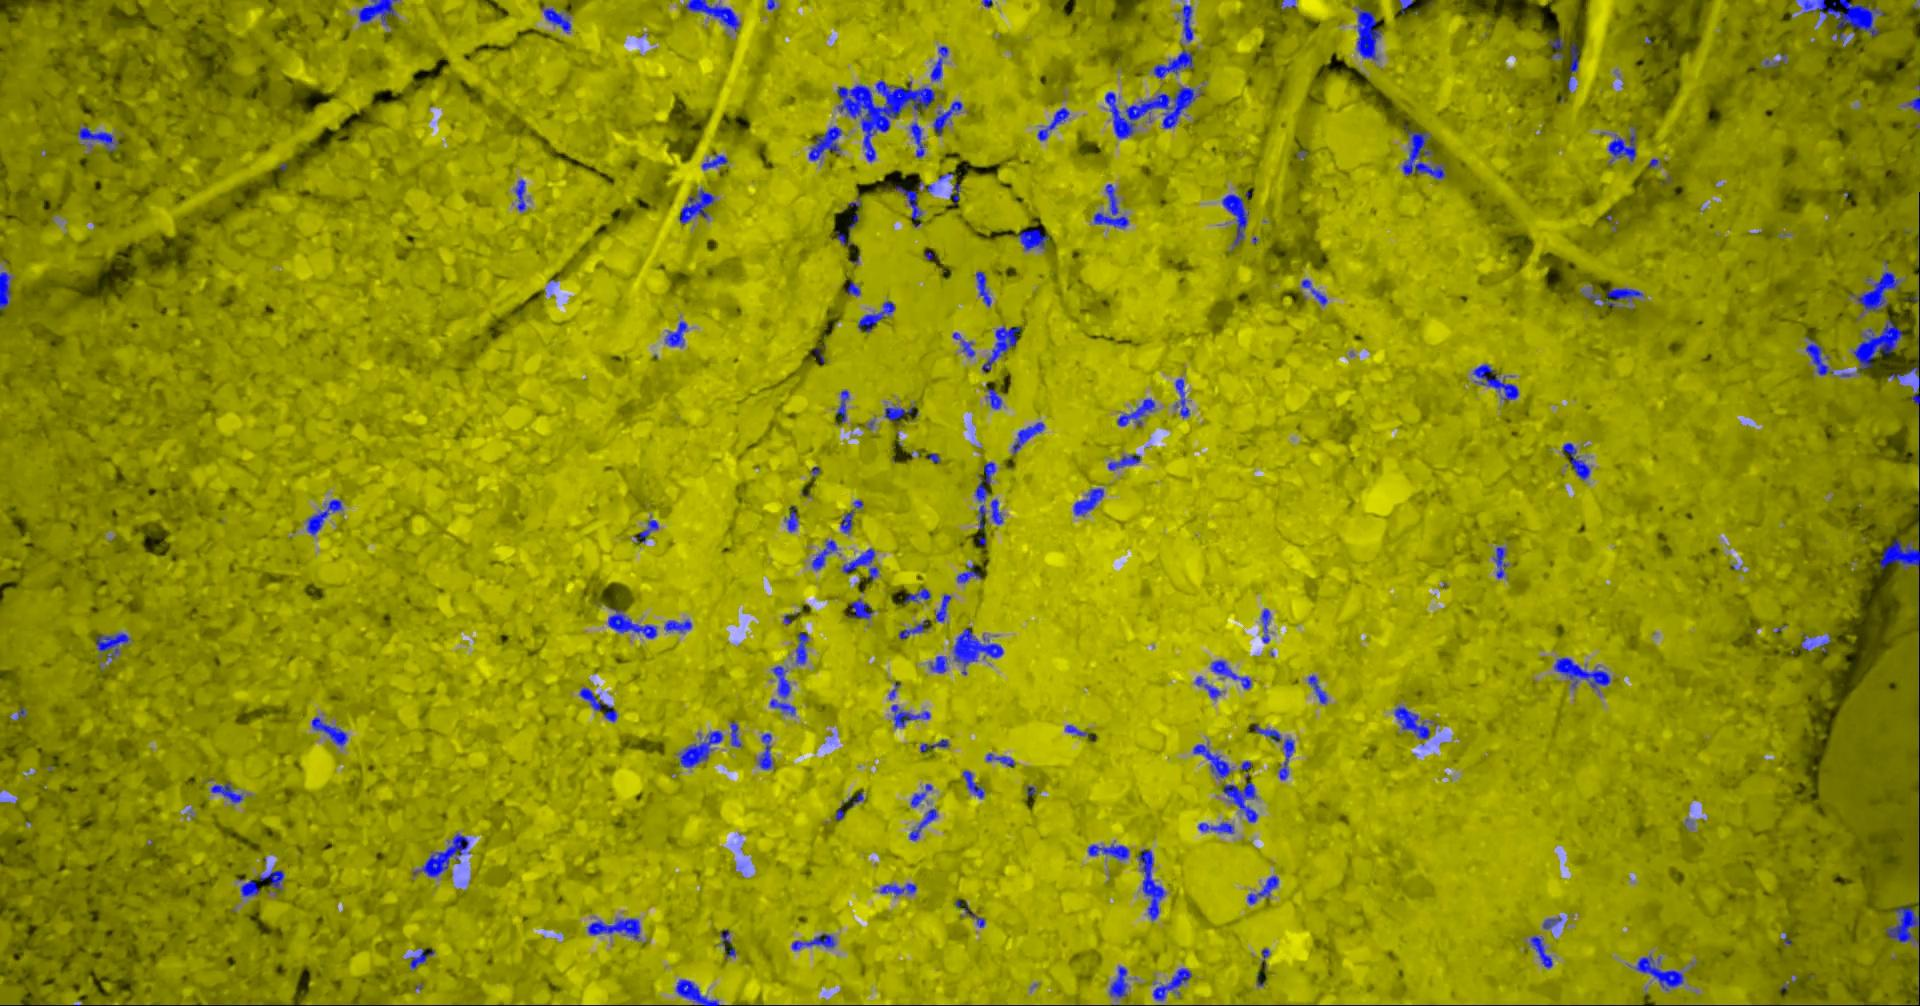ant: (1854, 318, 1903, 372), (414, 833, 471, 876), (954, 627, 1004, 674), (1404, 123, 1448, 178), (1255, 724, 1295, 779), (1556, 657, 1611, 694), (1139, 848, 1166, 920), (1879, 523, 1920, 569), (983, 326, 1021, 372), (1637, 954, 1685, 989), (686, 0, 742, 30), (1858, 271, 1900, 311), (1474, 363, 1520, 400), (1396, 705, 1436, 746), (681, 730, 724, 767), (1095, 183, 1130, 227), (610, 607, 658, 638), (1224, 781, 1258, 822), (1356, 6, 1383, 58), (1194, 744, 1236, 777), (1887, 901, 1920, 942), (977, 461, 997, 528), (1223, 194, 1250, 245), (580, 687, 618, 721), (771, 666, 797, 714), (1890, 365, 1920, 406), (681, 188, 716, 224), (1154, 967, 1192, 1000), (309, 499, 344, 533), (1211, 661, 1253, 688), (858, 301, 897, 332), (1154, 50, 1195, 77), (810, 126, 843, 160), (844, 547, 880, 579), (677, 979, 721, 1005), (79, 124, 119, 151), (897, 185, 923, 226), (312, 716, 349, 746), (1589, 287, 1644, 306), (1117, 398, 1156, 426), (589, 917, 641, 937), (1039, 107, 1070, 140), (1609, 126, 1637, 163), (1807, 337, 1834, 375), (1015, 422, 1046, 453), (935, 100, 964, 135), (97, 633, 131, 662), (1564, 442, 1591, 479), (359, 0, 399, 24), (891, 704, 931, 727), (1250, 875, 1280, 904), (910, 808, 938, 840), (1076, 486, 1105, 516), (956, 901, 987, 927), (1017, 227, 1051, 250), (1531, 935, 1554, 968), (813, 540, 838, 569), (792, 934, 837, 950), (212, 781, 244, 803), (1303, 279, 1330, 305), (543, 8, 571, 32), (1090, 843, 1130, 859), (964, 770, 985, 798), (1176, 379, 1191, 418), (932, 44, 949, 80), (977, 271, 993, 306), (954, 332, 977, 357), (1309, 674, 1330, 702), (1111, 965, 1129, 997), (900, 619, 930, 638), (636, 520, 660, 542), (1197, 676, 1222, 699), (886, 406, 919, 423), (910, 122, 926, 158), (759, 733, 775, 768), (262, 869, 284, 892), (667, 321, 688, 345), (912, 782, 933, 807), (850, 598, 875, 619), (1570, 42, 1580, 91), (1109, 453, 1142, 469), (411, 948, 436, 968), (957, 563, 983, 582), (881, 883, 918, 895), (1495, 546, 1509, 578), (905, 587, 932, 603), (937, 594, 952, 622), (1199, 822, 1236, 833), (703, 152, 729, 169), (837, 389, 850, 422), (987, 752, 1016, 766), (723, 929, 737, 958), (1, 271, 11, 310), (987, 384, 1003, 408), (665, 619, 693, 633), (797, 633, 810, 663), (1183, 4, 1194, 41), (921, 738, 950, 751), (516, 179, 527, 211), (992, 498, 1004, 525), (1262, 608, 1272, 641), (786, 506, 799, 531), (1550, 36, 1564, 58), (243, 879, 262, 895), (1766, 53, 1788, 67), (931, 655, 949, 672), (842, 509, 855, 532), (731, 721, 743, 747), (1802, 633, 1817, 650), (1065, 724, 1088, 735), (951, 183, 963, 205), (1544, 917, 1563, 929), (838, 231, 853, 245), (1399, 0, 1415, 13), (848, 281, 861, 295), (1909, 97, 1920, 111), (1283, 0, 1297, 9), (1919, 814, 1920, 874)
